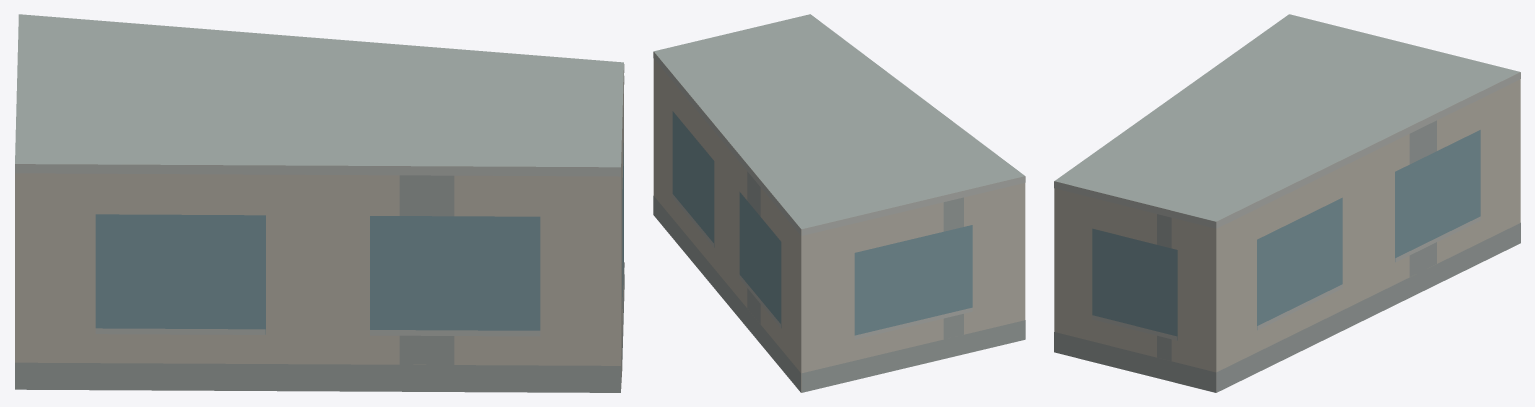
The model's file is residential-98514510-7c7c-4f47-a757-48884754d617.glb.
The picture shows the model from 3 angles, left to right: view 1: azimuth 30°, elevation 25°; view 2: azimuth 150°, elevation 25°; view 3: azimuth 270°, elevation 25°; orthographic projection. The views are drawn at different scales.
Parts seen in each view (by area): view 1: residential-98514510-7c7c-4f47-a757-48884754d617.tmp; view 2: residential-98514510-7c7c-4f47-a757-48884754d617.tmp; view 3: residential-98514510-7c7c-4f47-a757-48884754d617.tmp.
Part boxes in pixels (left/top/right/bottom): residential-98514510-7c7c-4f47-a757-48884754d617.tmp: left=15, top=14, right=624, bottom=392; residential-98514510-7c7c-4f47-a757-48884754d617.tmp: left=653, top=14, right=1025, bottom=392; residential-98514510-7c7c-4f47-a757-48884754d617.tmp: left=1054, top=14, right=1520, bottom=392.
Bounding box in the file's own units: 7.95 × 3.05 × 7.55.
